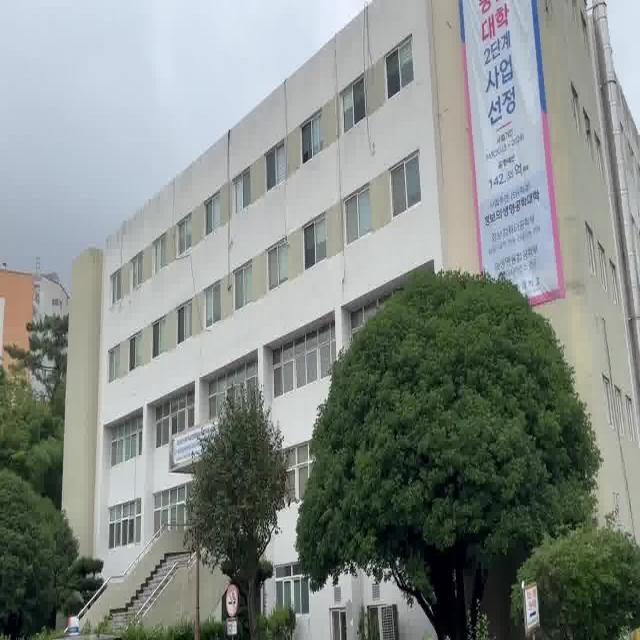building: (69, 118, 329, 424)
